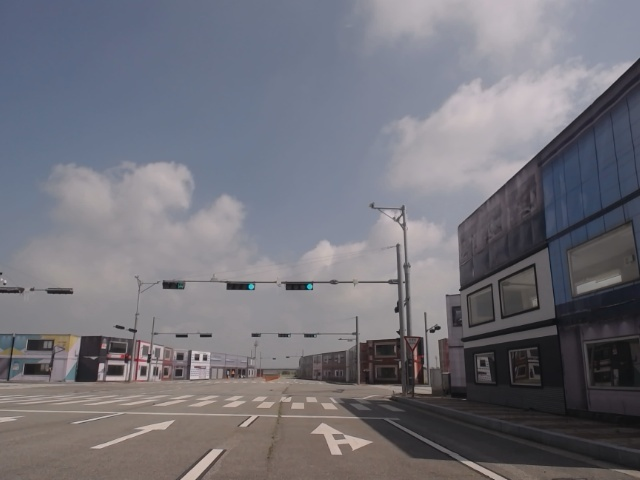straight_green_4: (285, 283, 314, 292), (227, 284, 254, 291)
